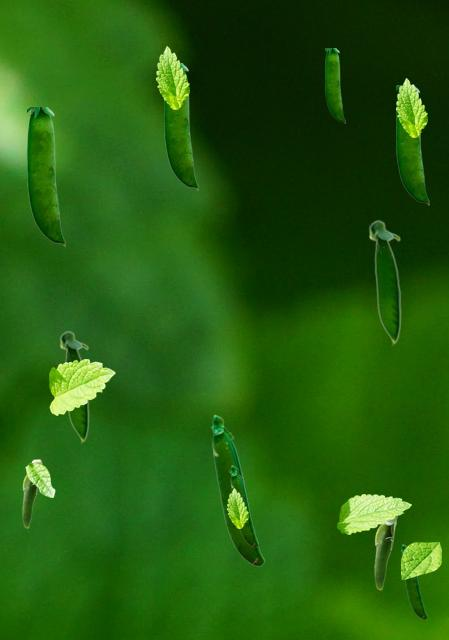pea: (211, 414, 263, 565), (27, 107, 64, 245), (164, 63, 197, 189), (368, 219, 400, 345), (396, 85, 428, 204), (59, 330, 88, 443), (230, 465, 257, 546), (401, 544, 426, 618), (374, 516, 397, 589), (325, 48, 344, 122), (22, 459, 41, 527)
